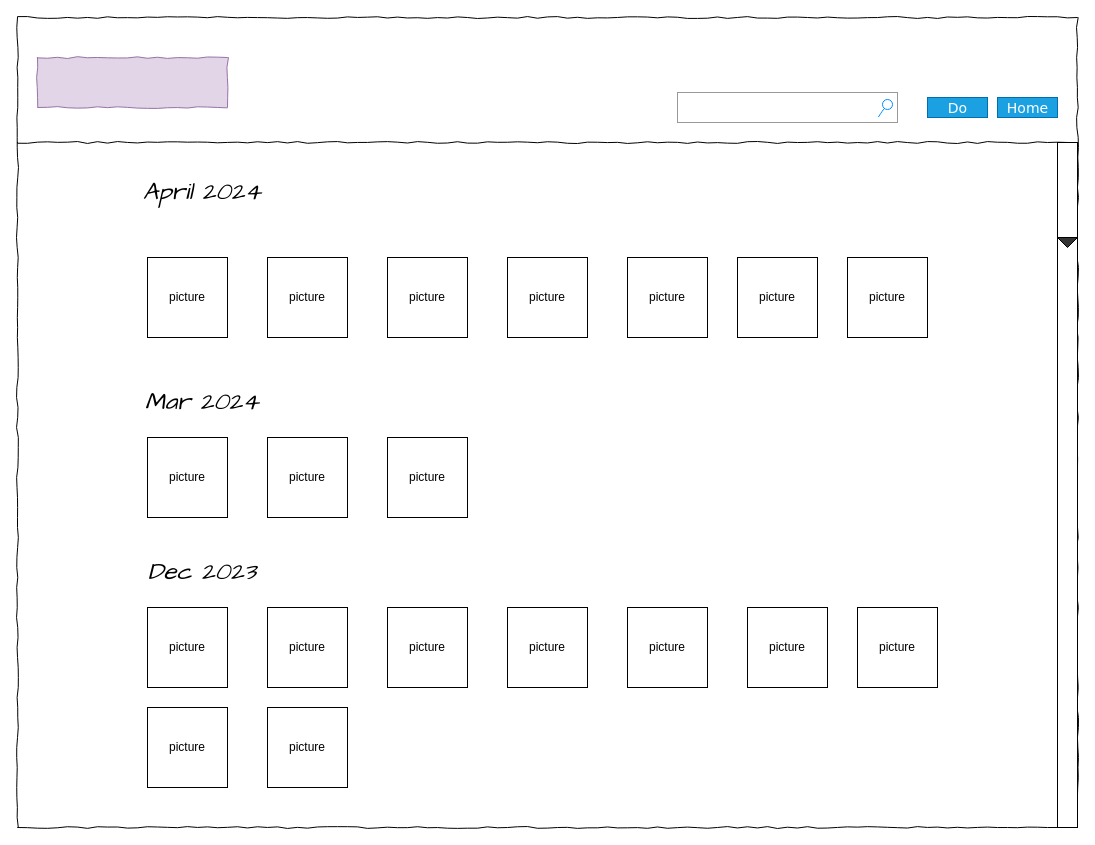
Image size: 1095x845. Some labels were removed from this diagram. Each missing label, with the centre of its shape:
Artwork Gallery: point (132, 82)
Search: point (787, 107)
